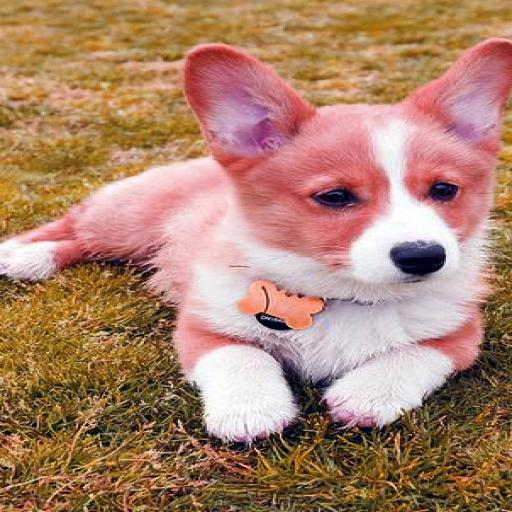dog_face: (179, 32, 509, 279)
